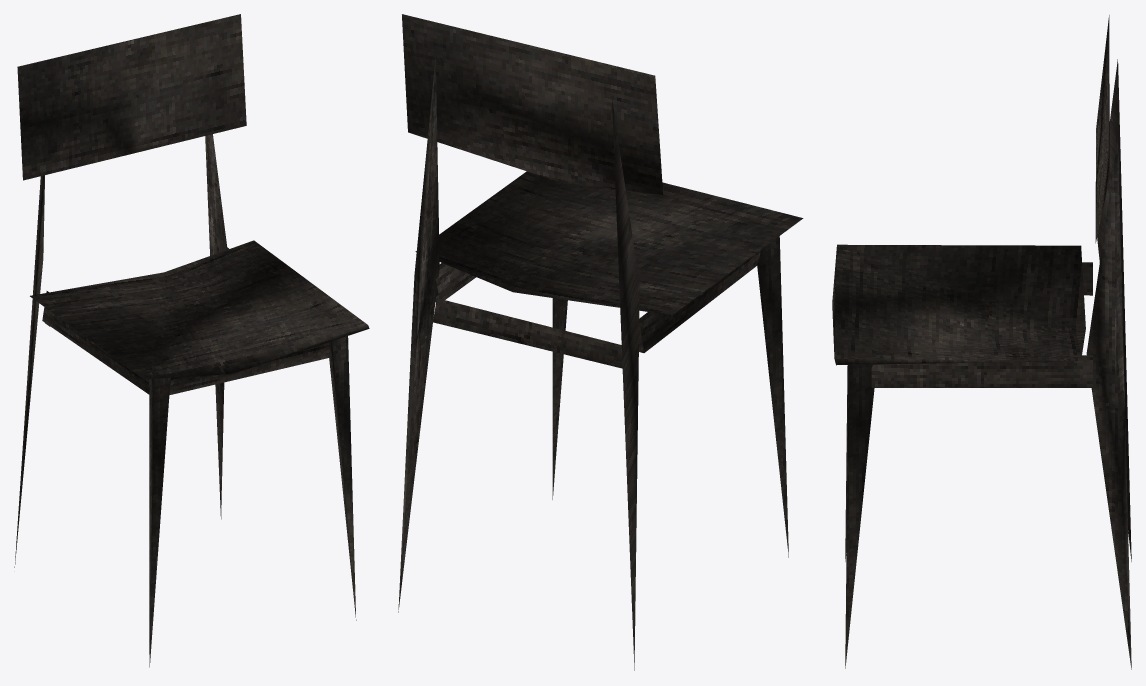
The model's file is chair_mp_3.glb.
3 renders of one model, left to right at view 1: azimuth 30°, elevation 25°; view 2: azimuth 150°, elevation 25°; view 3: azimuth 270°, elevation 25°, orthographic. The views are drawn at different scales.
Visible parts, largest first — view 1: chair_mp_3; view 2: chair_mp_3; view 3: chair_mp_3.
Part boxes in pixels (box(x1,y1,x2,y2)): chair_mp_3: box(14, 14, 369, 667); chair_mp_3: box(398, 14, 803, 670); chair_mp_3: box(832, 15, 1131, 669).
Size of the model in its own units: 0.4525 by 0.9922 by 0.4924.
Materials: 1 (1 with a texture image).
